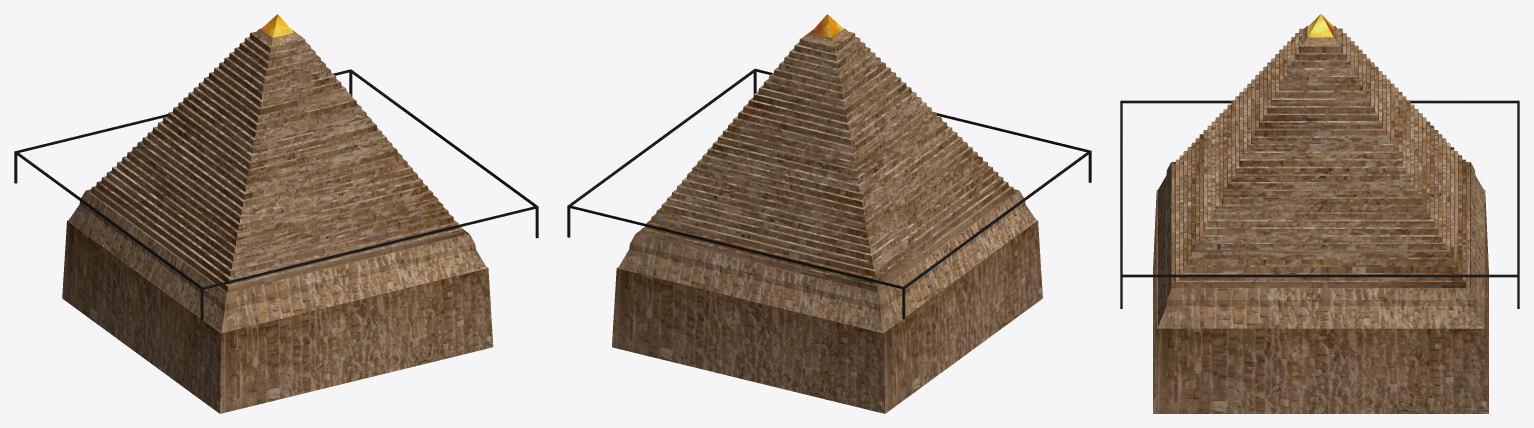
File: egyptian_pyramid.fbx
3 views of the same model, side by side, from view 1: azimuth 30°, elevation 25°; view 2: azimuth 150°, elevation 25°; view 3: azimuth 270°, elevation 25° (orthographic). The views are drawn at different scales.
Visible parts, largest first — view 1: Pyramid, Cube.007, Cube.008; view 2: Pyramid, Cube.007, Cube.008; view 3: Pyramid, Cube.007, Cube.008.
Part boxes in pixels (x1,y1,x2,y2): Pyramid: (62,14,493,413); Cube.007: (14,70,538,319); Cube.008: (349,69,536,206); Pyramid: (612,14,1042,413); Cube.007: (569,68,1091,319); Cube.008: (567,69,755,237); Pyramid: (1153,14,1488,413); Cube.007: (1120,100,1519,308); Cube.008: (1122,274,1519,308).
Size of the model in its own units: 1262 by 1106 by 1217.
4 materials, 2 textured.
